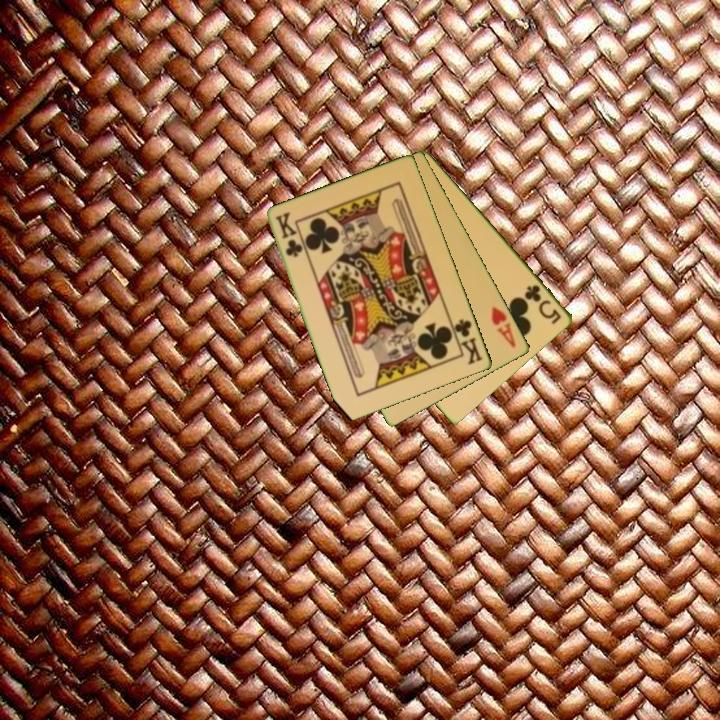5c: (521, 281, 565, 327)
Ah: (488, 303, 519, 351)
Kc: (448, 316, 486, 368), (272, 209, 305, 260)
